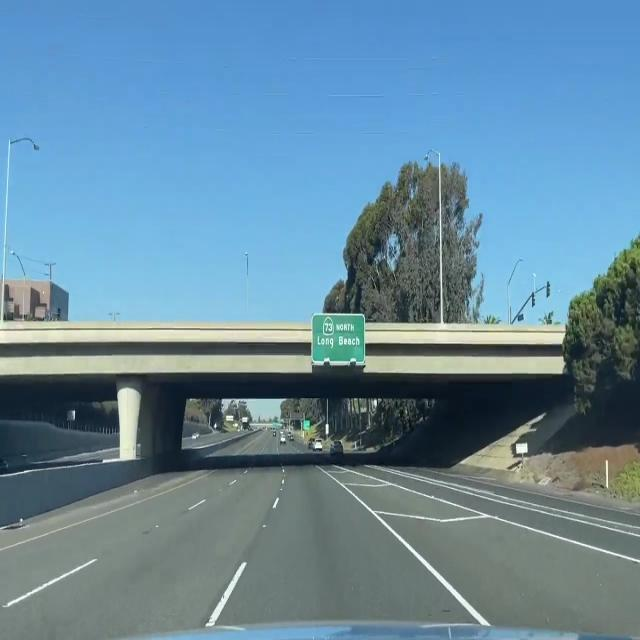street-signs: (311, 310, 365, 367), (304, 419, 310, 431)
